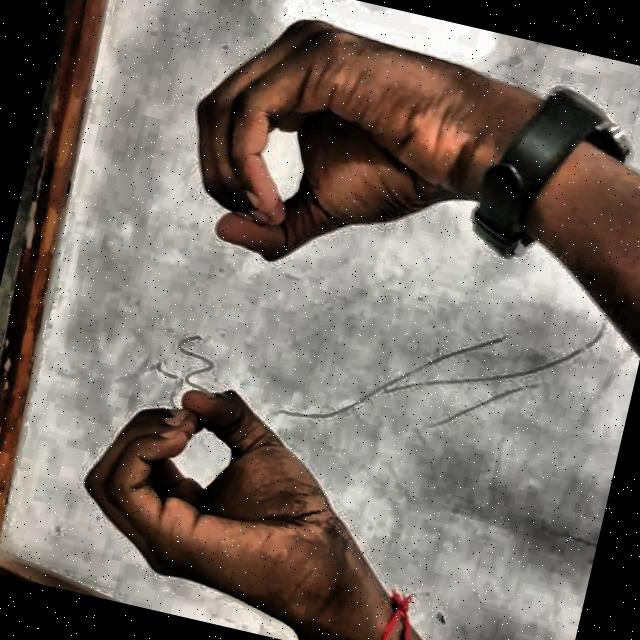Bisharga: (63, 0, 534, 640)
